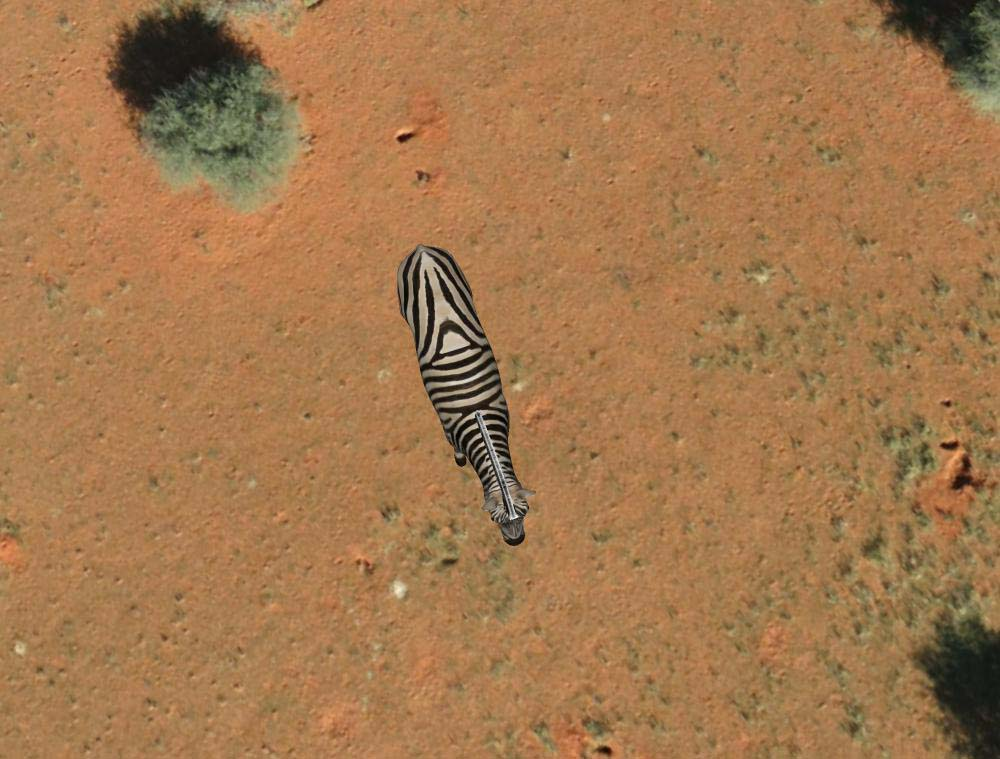zebra: (391, 239, 539, 556)
